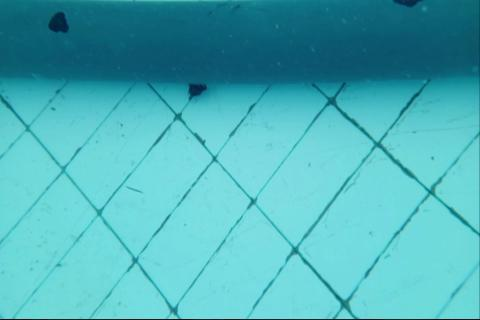kebocoran: (47, 8, 70, 35), (394, 0, 422, 9)
keretakan: (199, 0, 266, 16)
